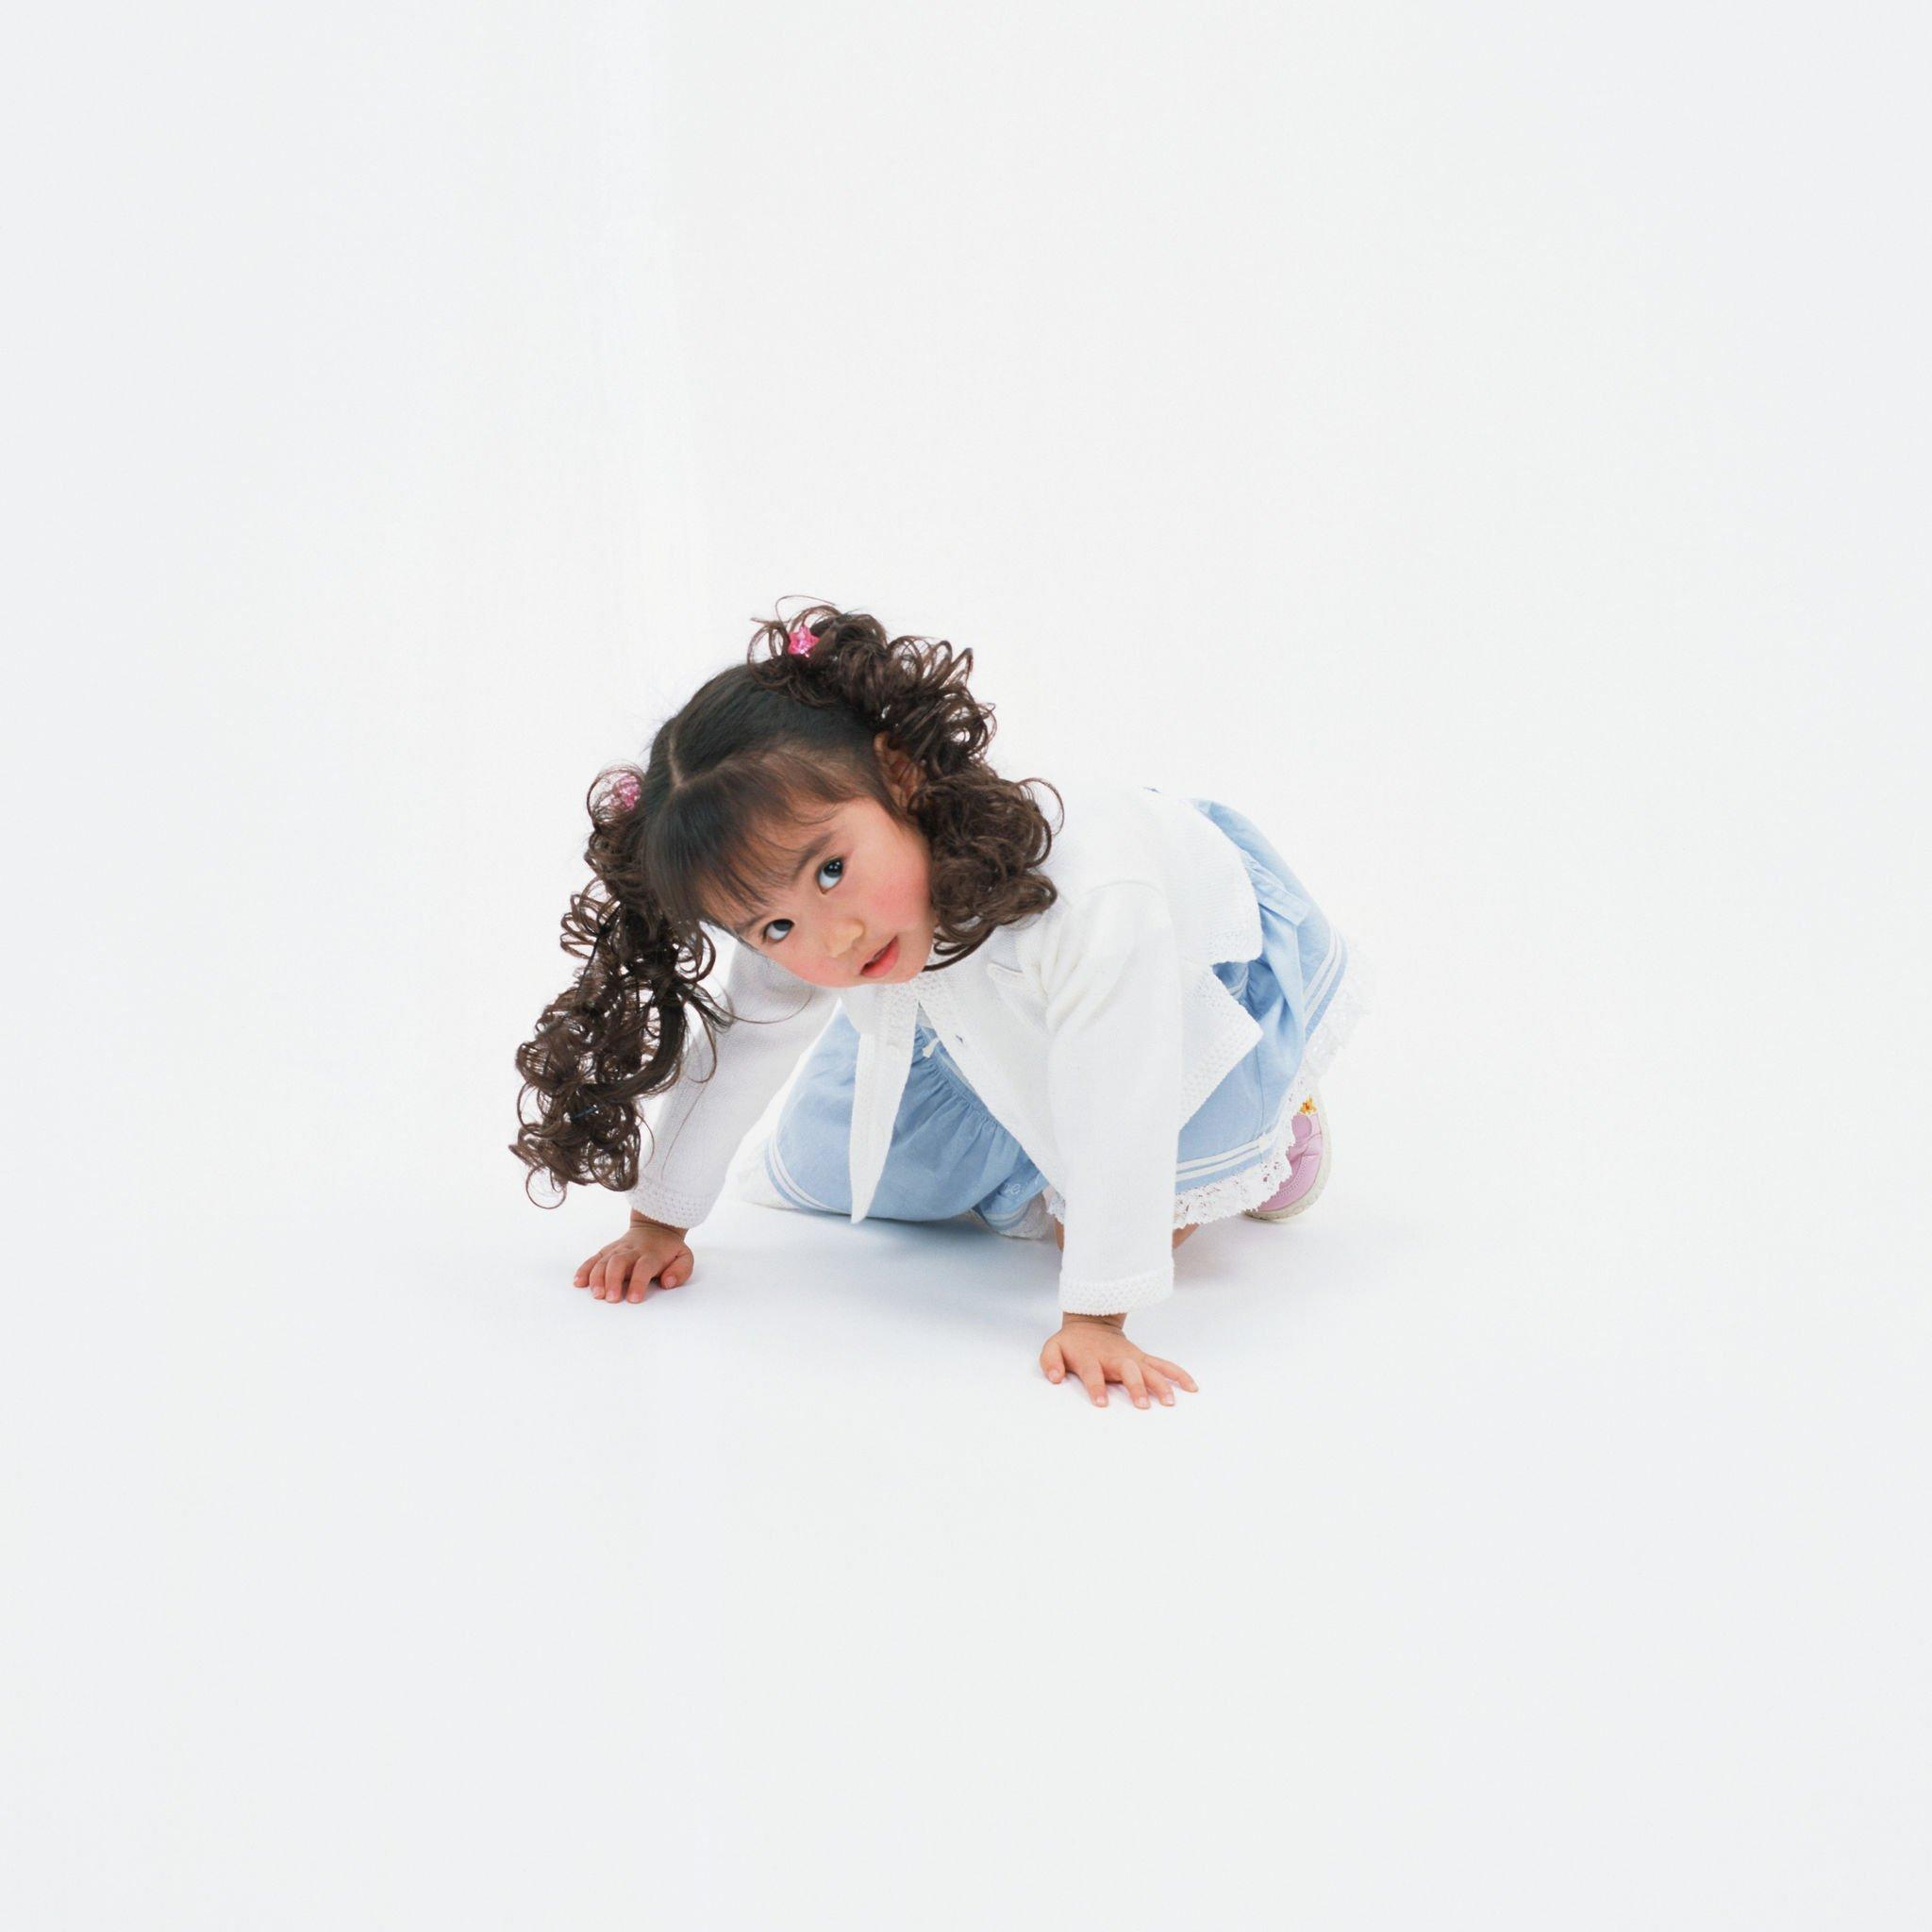Healthy: (681, 755, 968, 1033)
